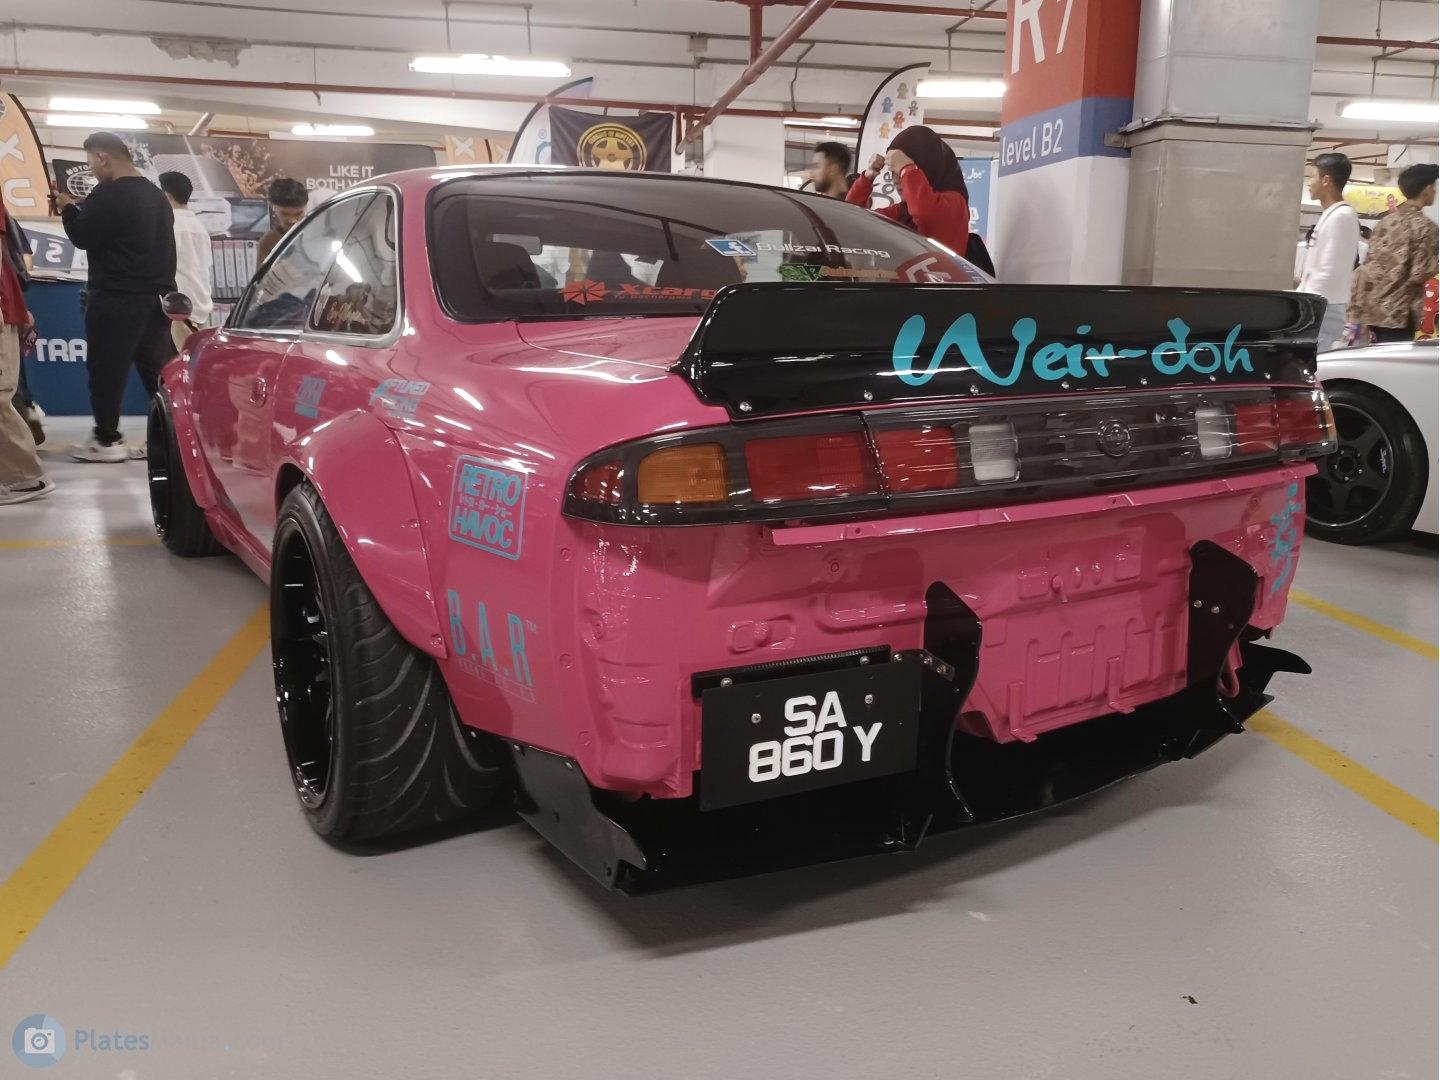License Plate: (713, 665, 923, 804)
